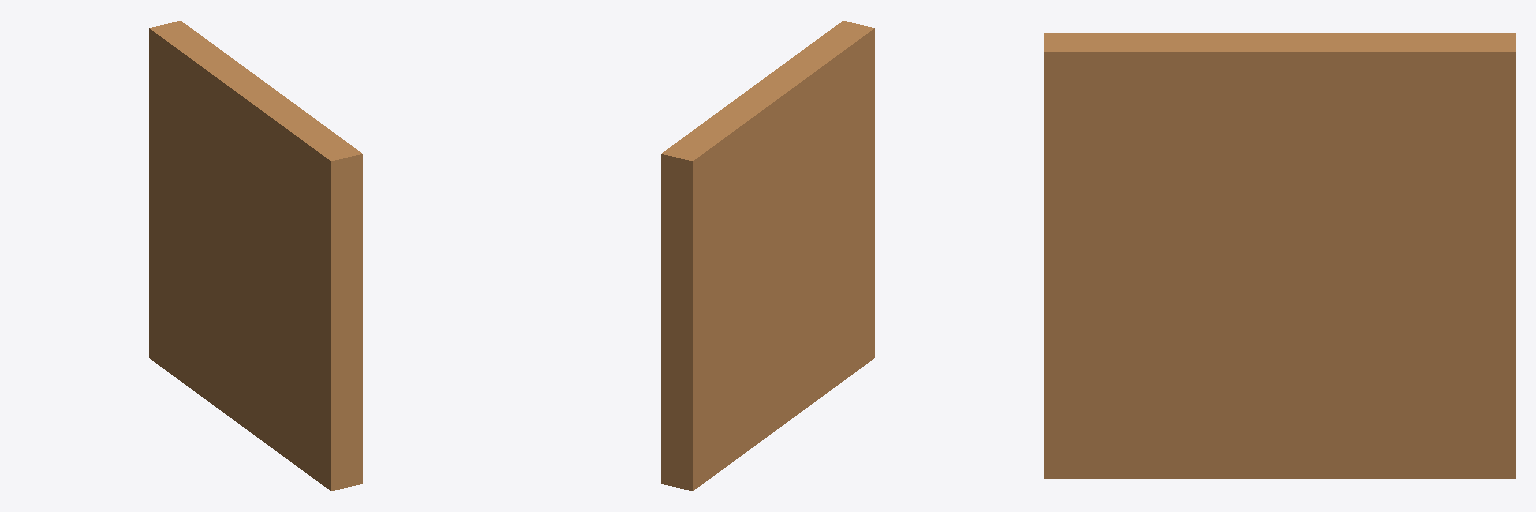
URDF robot description (plate):
<robot name="plate">
<link name="link">
   <inertial>
     <origin xyz="0 0 0" rpy="0 0 0"/>
     <mass value=".0"/>
     <inertia ixx="0"  ixy="0"  ixz="0" iyy="0" iyz="0" izz="0" />
   </inertial>

   <visual>
     <origin xyz="0 0 0" rpy="0 0 0" />
     <geometry>
       <box size="0.01 0.1 0.1" />
     </geometry>
    <material name="brawn">
     <color rgba="0.8  0.6 0.4 1"/>
     </material>
   </visual>

   <collision>
     <origin xyz="0 0 0" rpy="0 0 0" />
     <geometry>
       <box size="0.01 0.1 0.1" />
     </geometry>
   </collision>

 </link>
 </robot>

--- Facts derived from the render (not from the file) ---
3 views of the same robot in one strip: view 1: azimuth 30°, elevation 25°; view 2: azimuth 150°, elevation 25°; view 3: azimuth 270°, elevation 25° (orthographic).
Model plate with 1 links and 0 joints (none), rooted at link, posed all joints at 0.
Visible links, largest first — view 1: link; view 2: link; view 3: link.
Boxes of the visible links, left/top/right/bottom form: link: left=149, top=21, right=362, bottom=490; link: left=661, top=21, right=874, bottom=490; link: left=1044, top=33, right=1515, bottom=478.
Size in the robot's own frame: 0.01 by 0.1 by 0.1 metres.
Geometry: primitives only (box / cylinder / sphere), no mesh files.